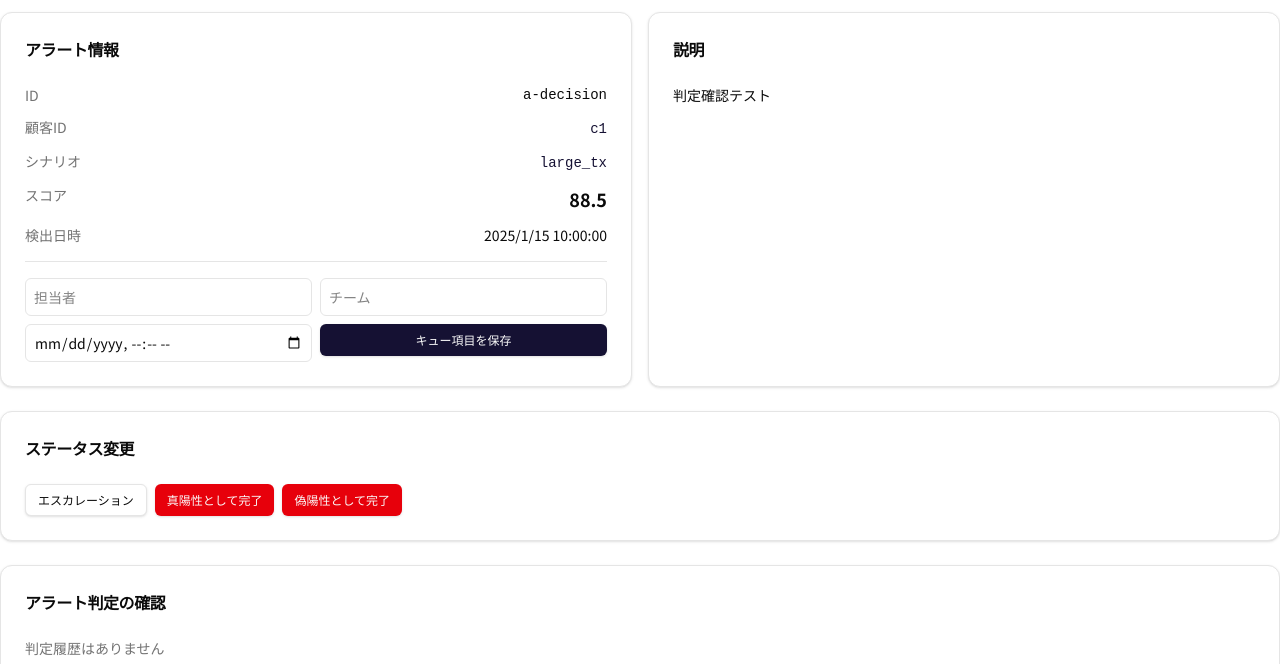
Test: requires rationale and confirmation, then retains it when the decision fails
The image size is (1280, 664).
Expected: the text "判定確認テスト" is shown, [673,85,771,105]
Click the button "真陽性として完了" at (215, 500), box [155,484,274,516]
(page scrolled)
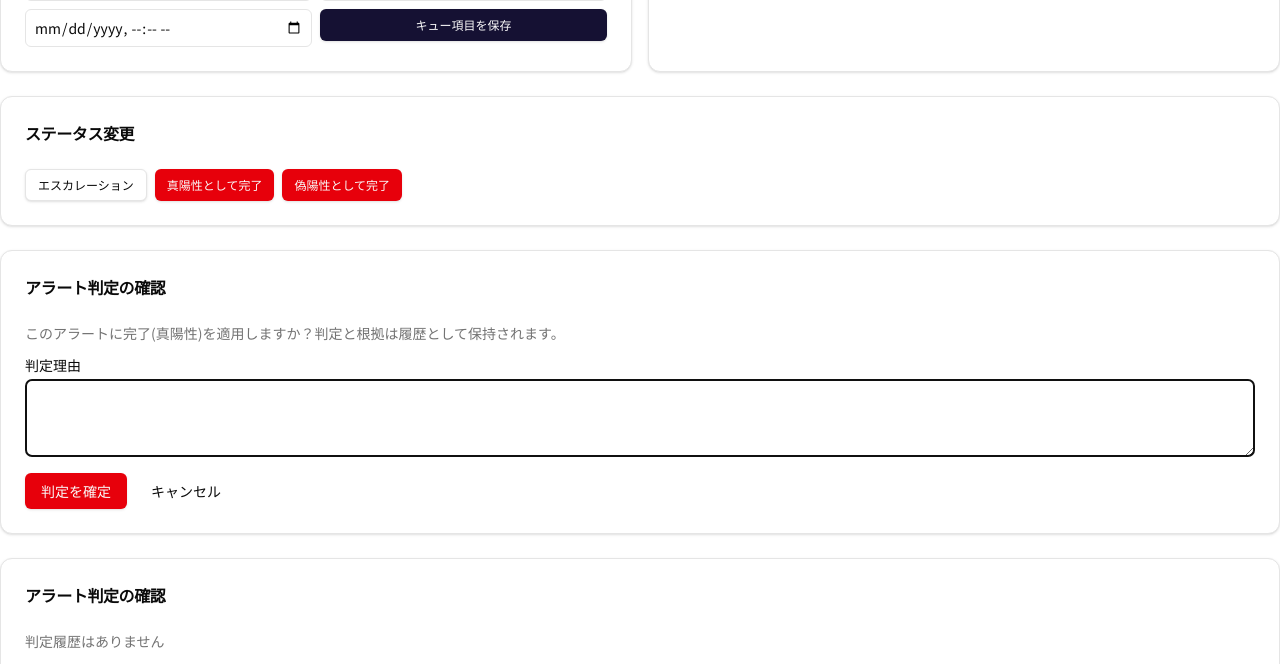
Now the dialog is shown, box [0,250,1279,534]
Click the button "判定を確定" at (76, 491), box [25,473,127,509]
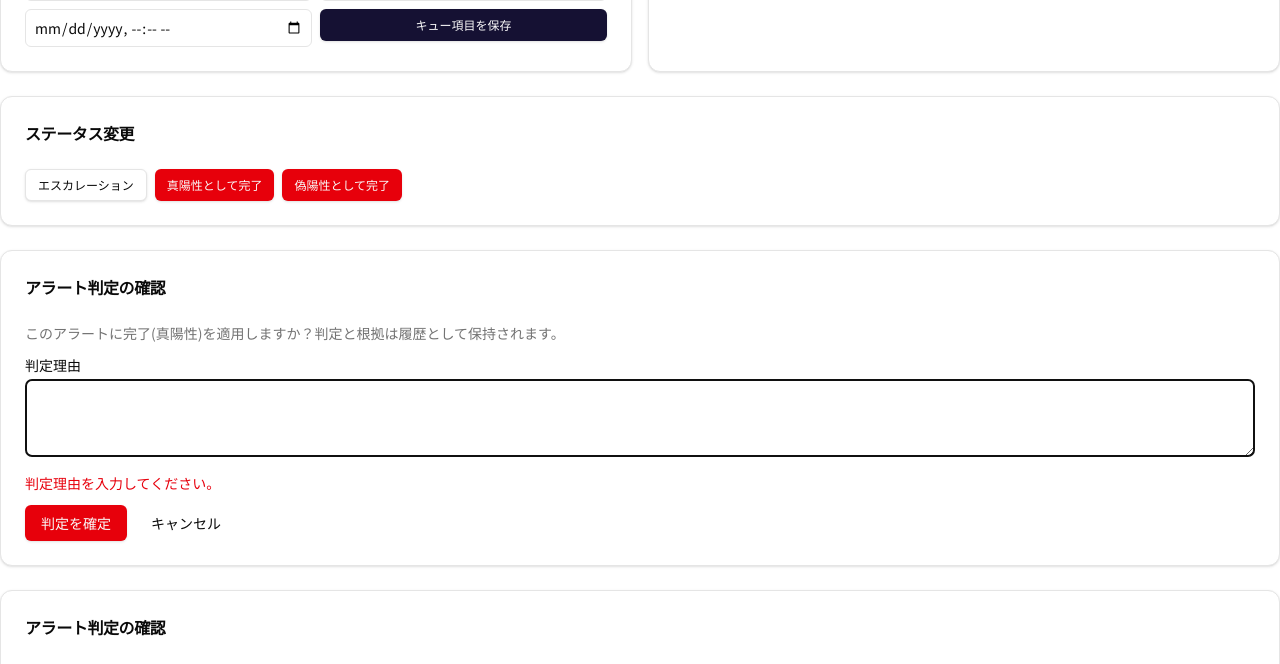
Now the message shows "判定理由を入力してください", box [25,473,220,493]
Type "追加証拠を確認したため" into the text box labelled "判定理由" at (640, 418), box [25,379,1255,457]
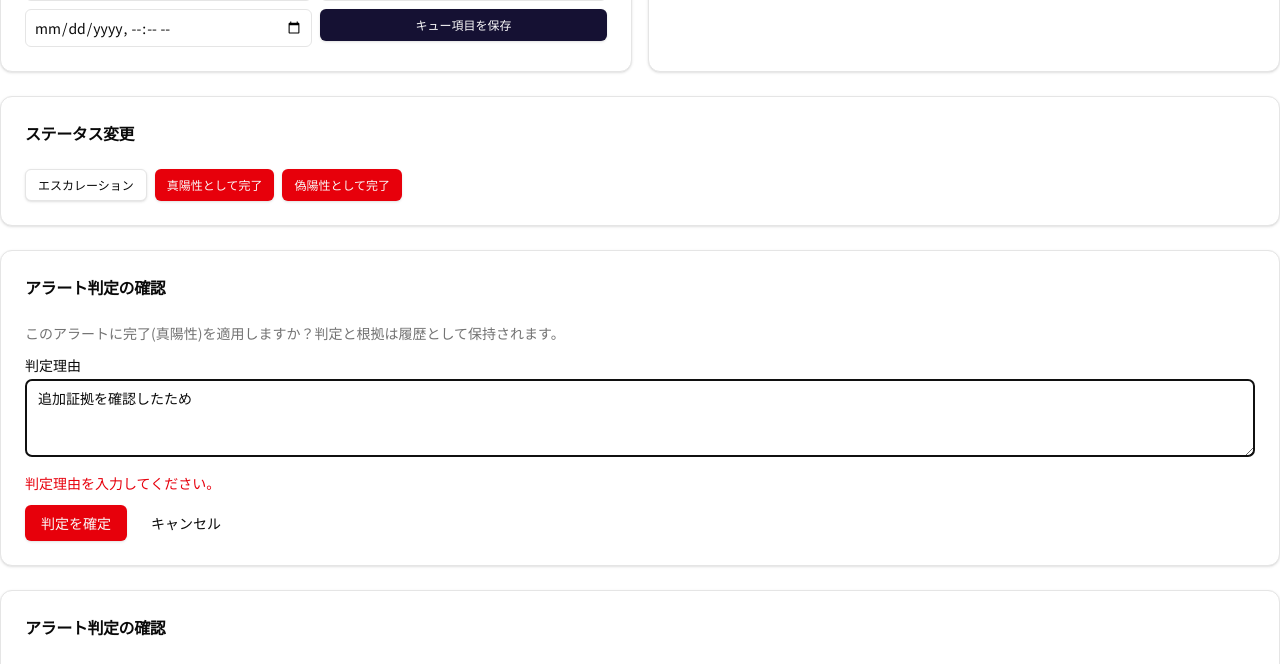
Click the button "判定を確定" at (76, 523), box [25,505,127,541]
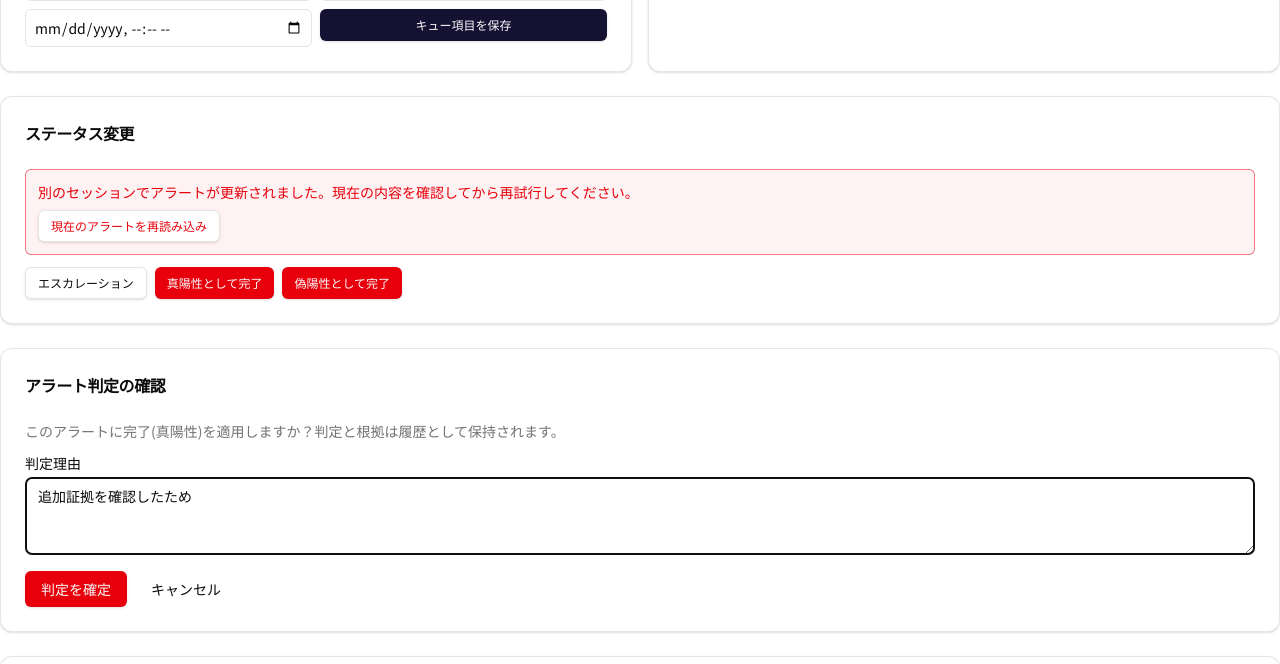
Now the message shows "別のセッションでアラートが更新されました", box [38,182,639,202]
